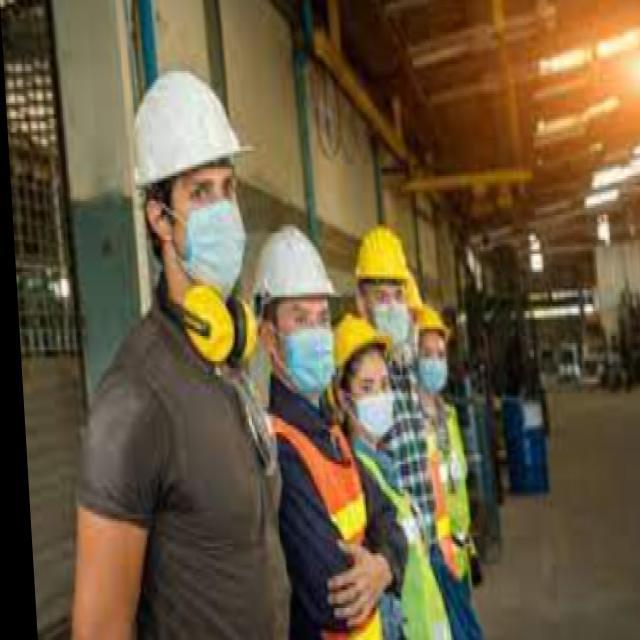helmet: (120, 67, 262, 297), (246, 220, 350, 406), (325, 308, 402, 445), (347, 223, 417, 349), (408, 302, 457, 400), (374, 262, 425, 332)
vest: (262, 407, 386, 640), (343, 436, 456, 640), (408, 397, 486, 589)
